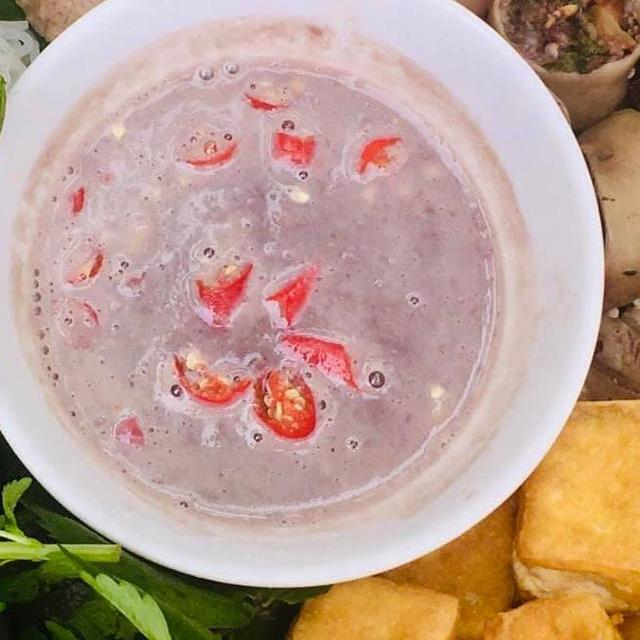bun dau: (0, 0, 640, 640)
dau hu: (240, 350, 640, 640)
